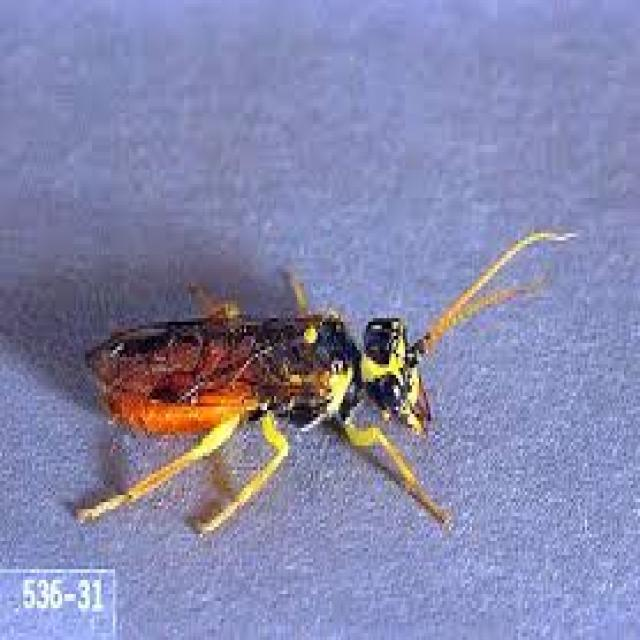Saw Fly: (69, 224, 584, 582)
